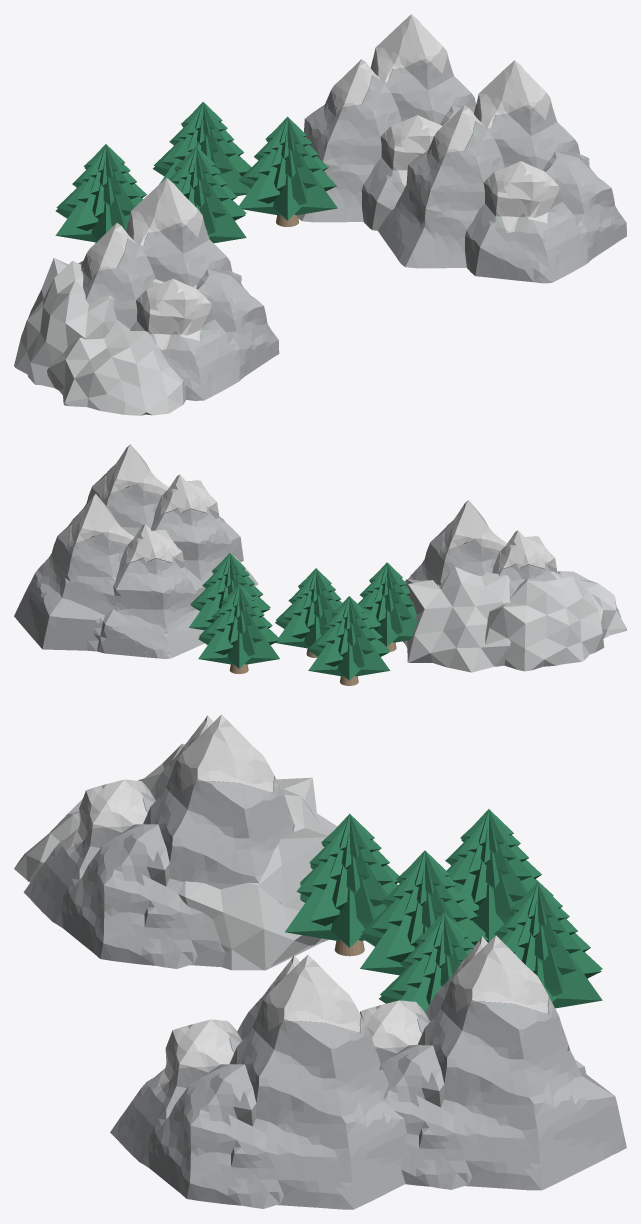
The picture shows the model from 3 angles, top to bottom: view 1: azimuth 30°, elevation 25°; view 2: azimuth 150°, elevation 25°; view 3: azimuth 270°, elevation 25°; orthographic projection. The views are drawn at different scales.
Parts seen in each view (by area): view 1: Mesh_Mesh_head_geo.001_lambert2SG.001; view 2: Mesh_Mesh_head_geo.001_lambert2SG.001; view 3: Mesh_Mesh_head_geo.001_lambert2SG.001.
Part boxes in pixels (box(x1,y1,x2,y2)): Mesh_Mesh_head_geo.001_lambert2SG.001: box(14, 14, 626, 415); Mesh_Mesh_head_geo.001_lambert2SG.001: box(14, 444, 626, 685); Mesh_Mesh_head_geo.001_lambert2SG.001: box(14, 714, 626, 1209).
Bounding box in the file's own units: 243 × 59.79 × 163.
